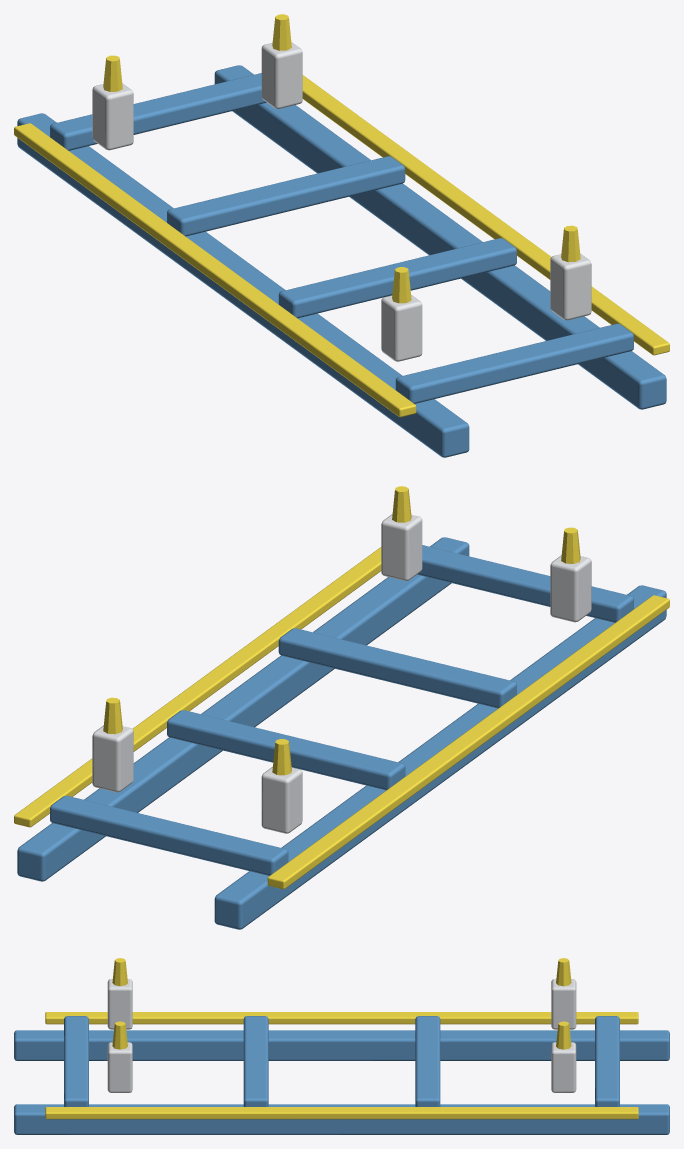
Rendered from body-carrier-skid.glb.
3 views of the same model, one above another, from view 1: azimuth 30°, elevation 25°; view 2: azimuth 150°, elevation 25°; view 3: azimuth 270°, elevation 25° (orthographic). The views are drawn at different scales.
Visible parts, largest first — view 1: body-carrier-skid; view 2: body-carrier-skid; view 3: body-carrier-skid.
Boxes of the visible parts, x1,y1,x2,y2 form: body-carrier-skid: (14,14,669,457); body-carrier-skid: (14,486,669,929); body-carrier-skid: (14,958,669,1134).
Size of the model in its own units: 1.54 by 0.72 by 4.2.
